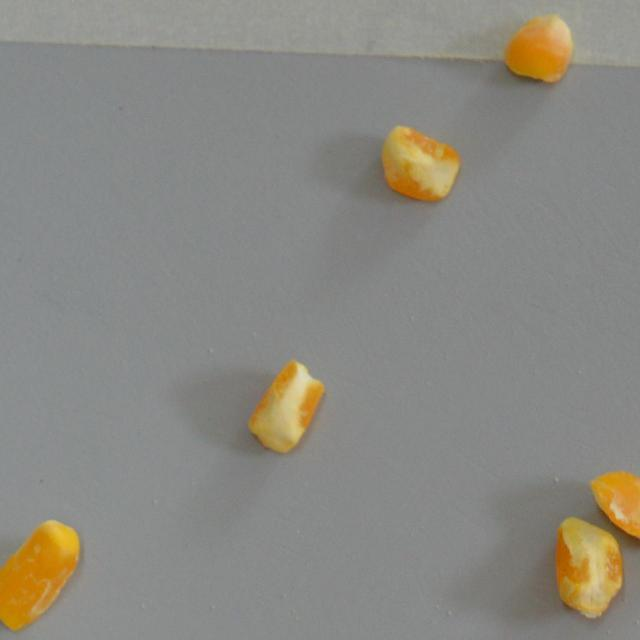estandar: (370, 112, 459, 212), (242, 356, 330, 456)
pelicula: (0, 514, 87, 640), (488, 0, 594, 88), (552, 510, 632, 624), (588, 461, 640, 551)
